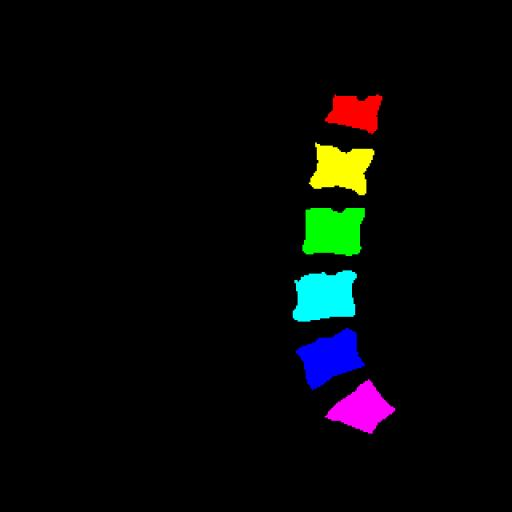L1: (325, 94, 382, 134)
L2: (309, 143, 374, 195)
L3: (302, 208, 365, 256)
L4: (293, 271, 357, 322)
L5: (296, 328, 364, 390)
S1: (325, 380, 395, 434)
